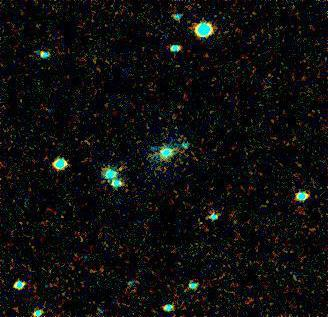star: (111, 154, 141, 184)
